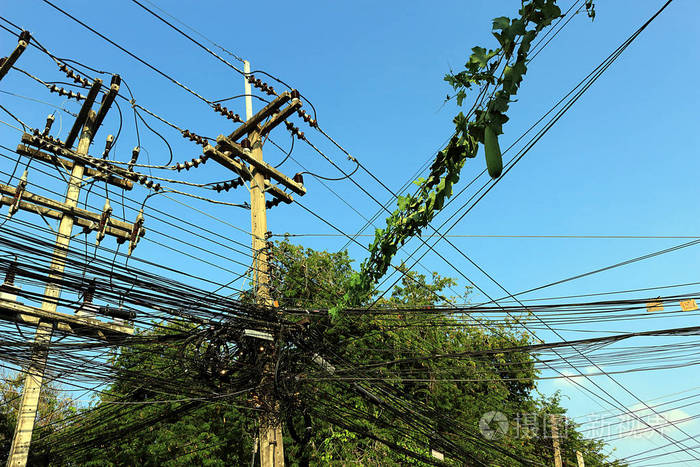insulator: (58, 63, 88, 87), (244, 75, 276, 96), (215, 176, 248, 193), (212, 103, 240, 123), (50, 83, 82, 99), (283, 119, 305, 140), (180, 130, 210, 145), (175, 155, 207, 169), (31, 128, 60, 143), (135, 176, 162, 190), (300, 109, 319, 127)
